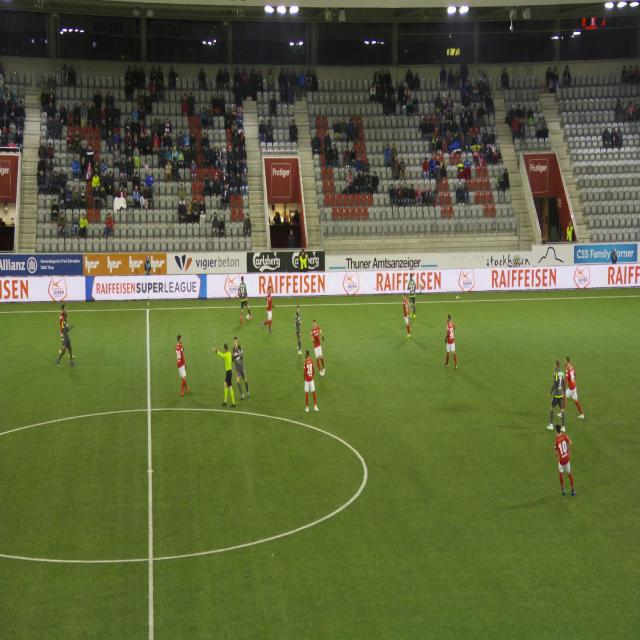Ball: (244, 306, 253, 322)
Player: (550, 414, 580, 503), (542, 357, 568, 431), (230, 333, 255, 402), (564, 352, 586, 429), (173, 330, 195, 400), (57, 302, 79, 371), (236, 272, 260, 332), (310, 315, 330, 382), (441, 310, 463, 370), (300, 349, 319, 417), (260, 284, 278, 339), (398, 286, 414, 342), (291, 303, 305, 356), (408, 269, 420, 321)
Referee: (213, 341, 237, 416)
